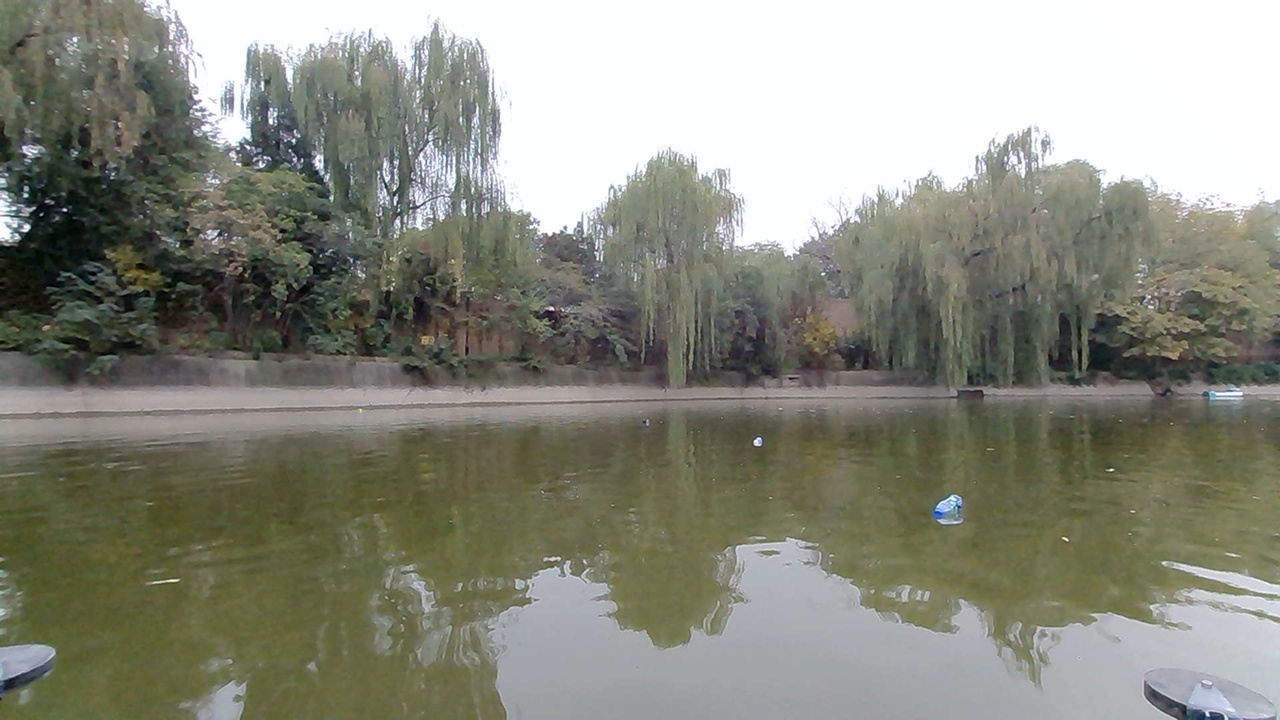bottle: (917, 482, 975, 532), (733, 423, 772, 452), (633, 409, 661, 435)
